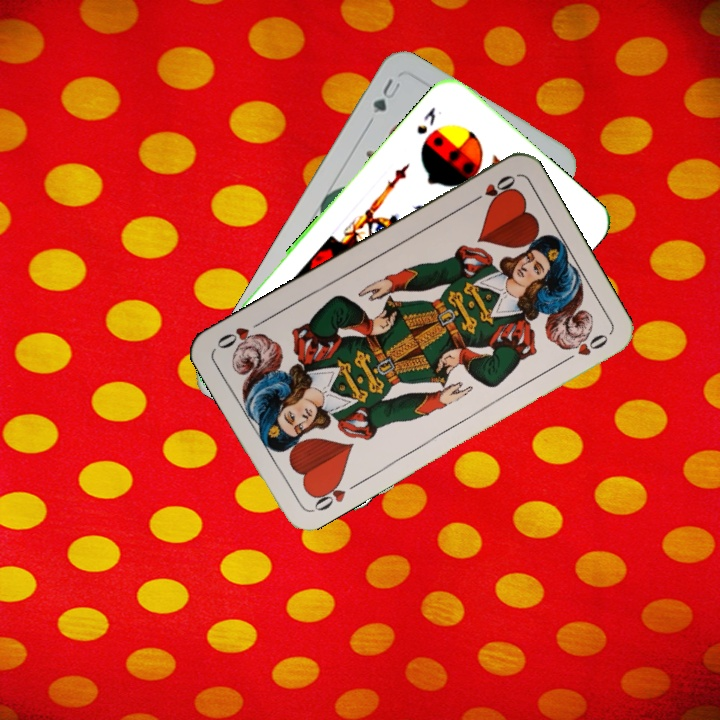GU: (368, 74, 403, 116)
HO: (465, 170, 519, 207), (307, 474, 349, 515)
SK: (412, 103, 439, 138)
